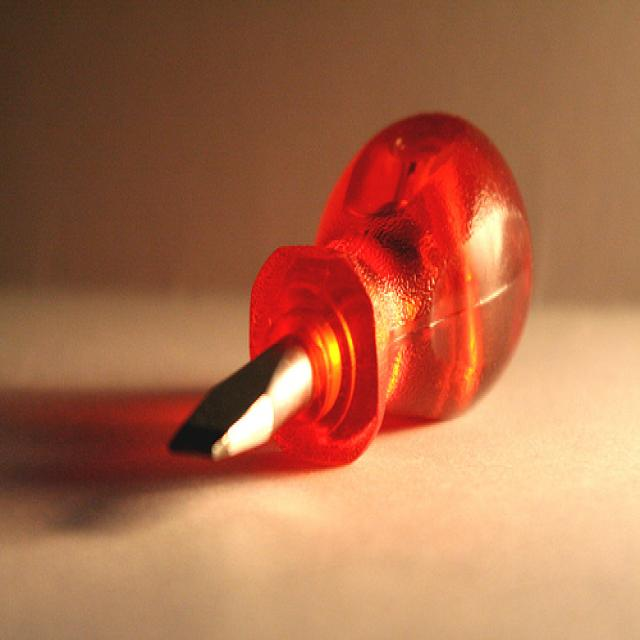screw_driver: (168, 111, 536, 471)
